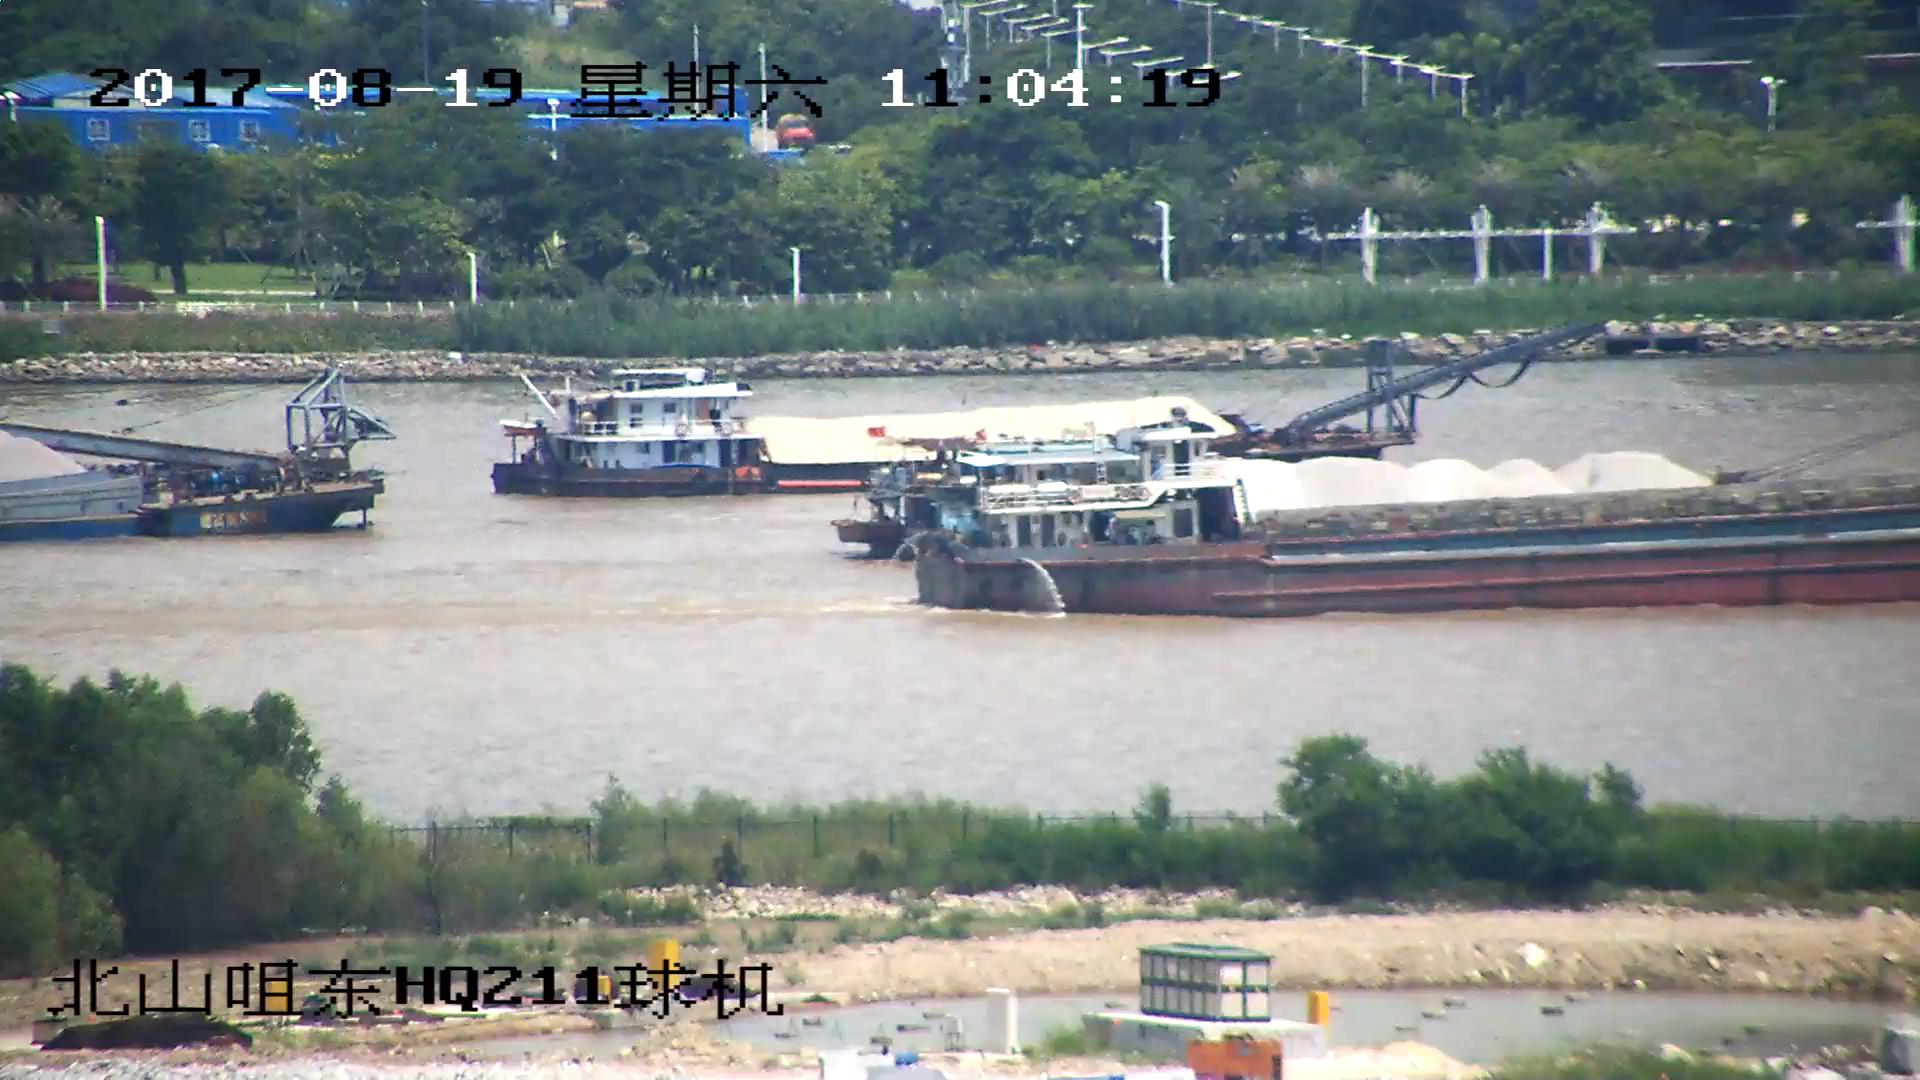bulk cargo carrier: (913, 479, 1920, 618)
ore carrier: (493, 318, 1593, 496), (839, 435, 1746, 567), (1, 360, 379, 543)
